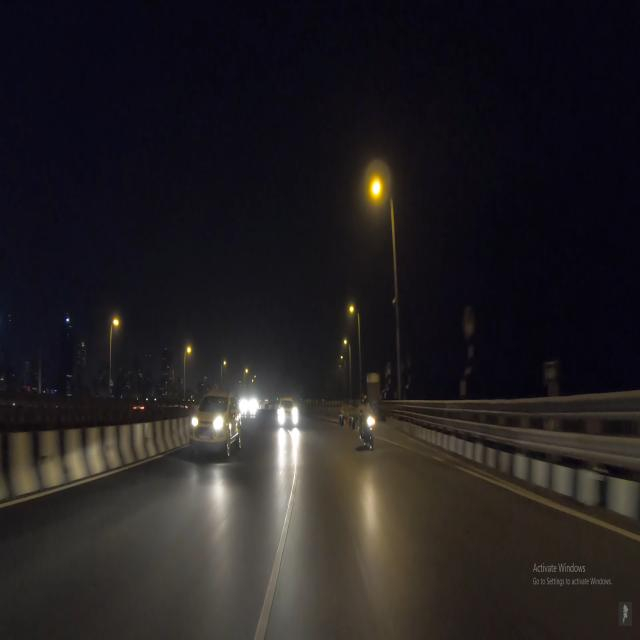headlights: (187, 403, 231, 448), (275, 403, 304, 432)
